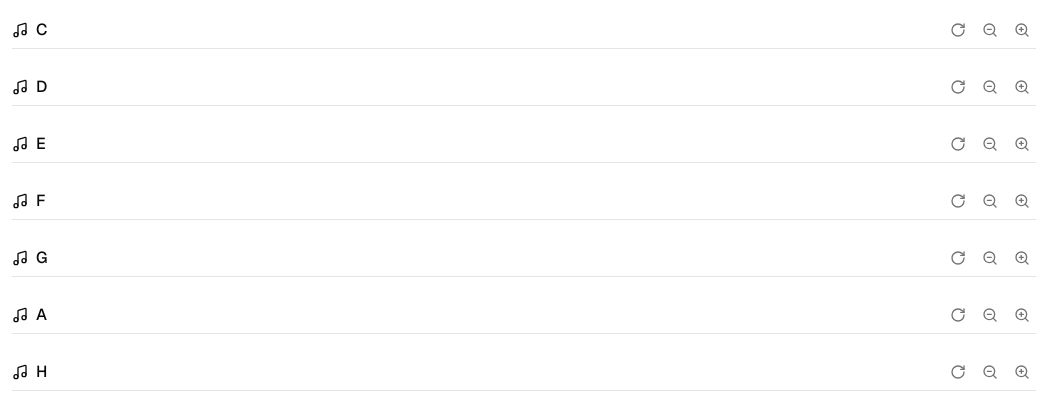
Test: disables the decrease button when min size is reached
This screenshot has width=1048, height=408.
Click the 1st button named "decrease": (990, 30) [976,16,1004,44]
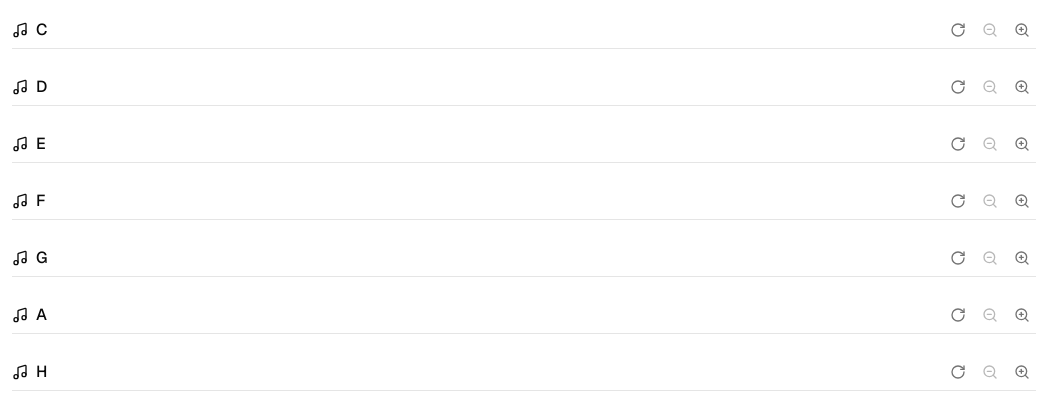
Expected: the 1st button named "decrease" is disabled, [976,16,1004,44]
